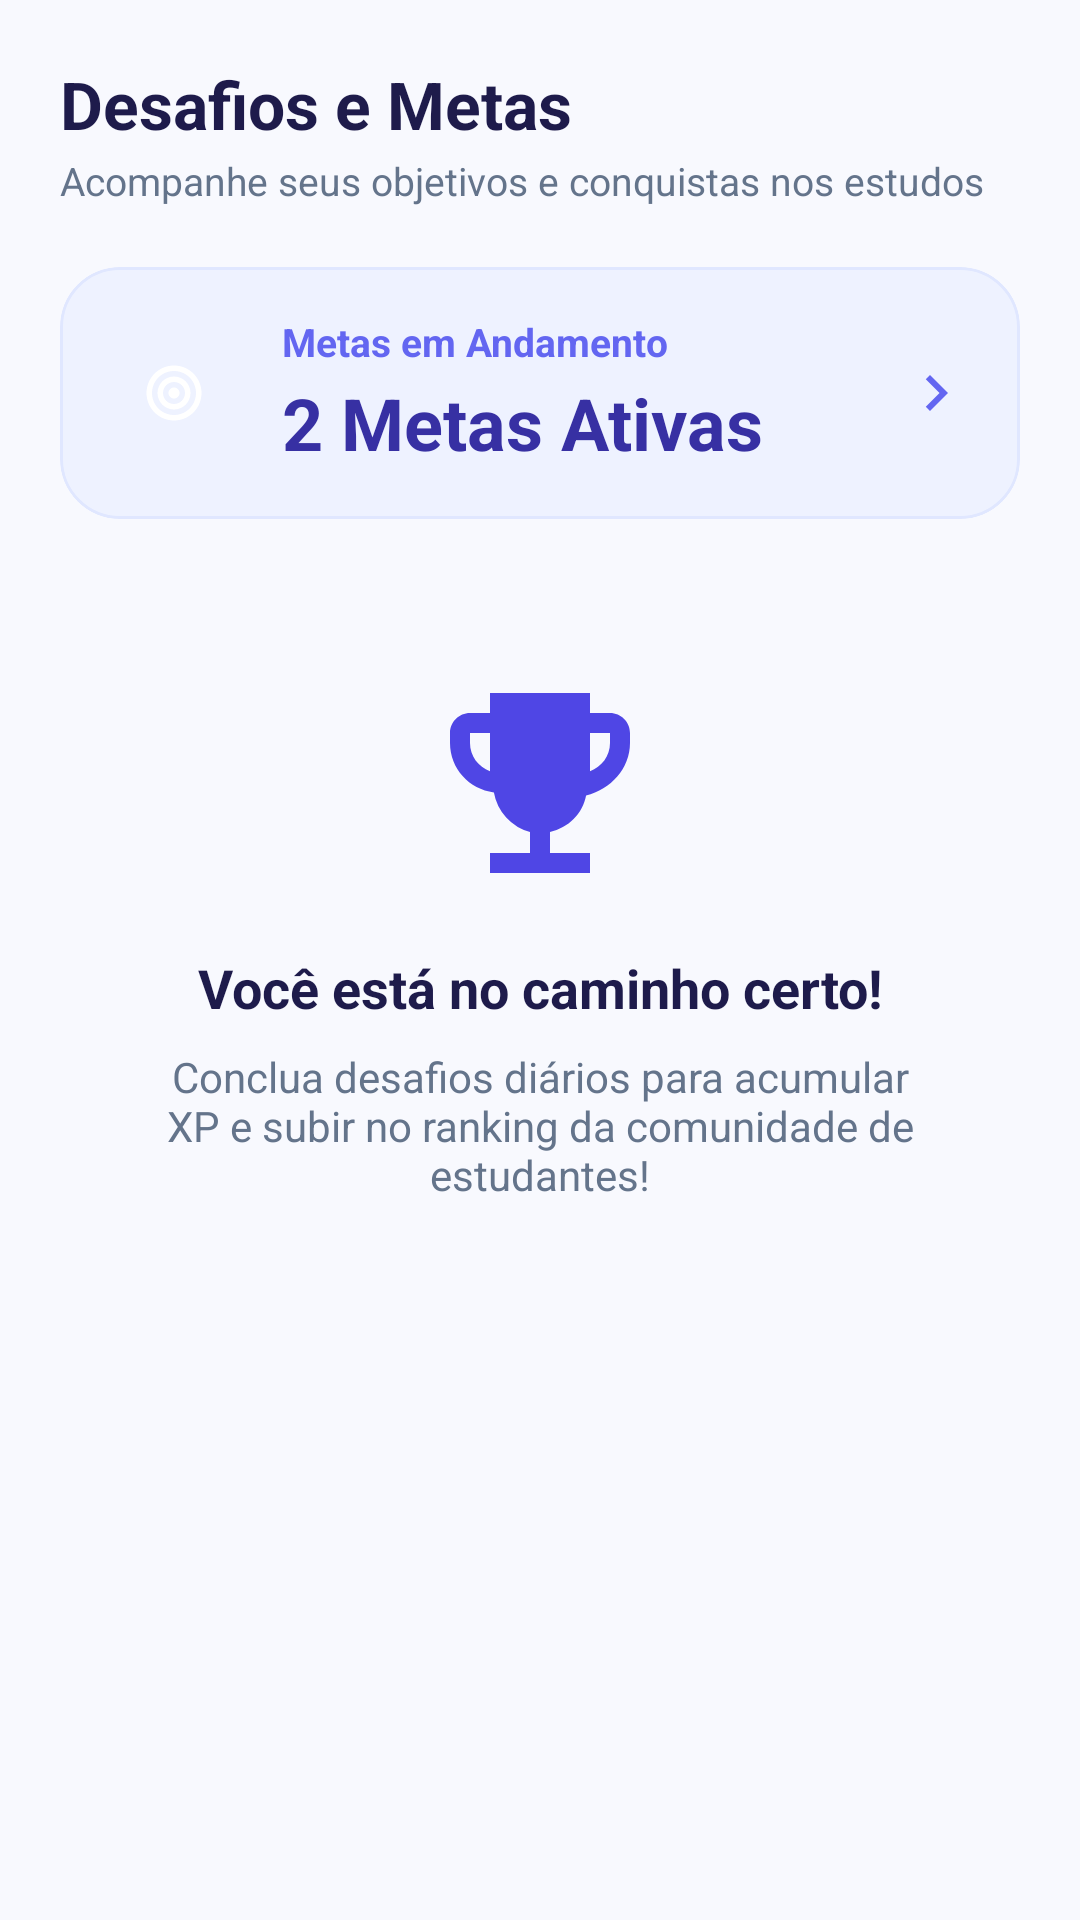

Locate icon controls on the screen. Image size 1080*1920, boxes as (x1, y1, x2, y2).
Seta metas: (926, 375, 948, 411)
Troféu: (450, 693, 630, 873)
